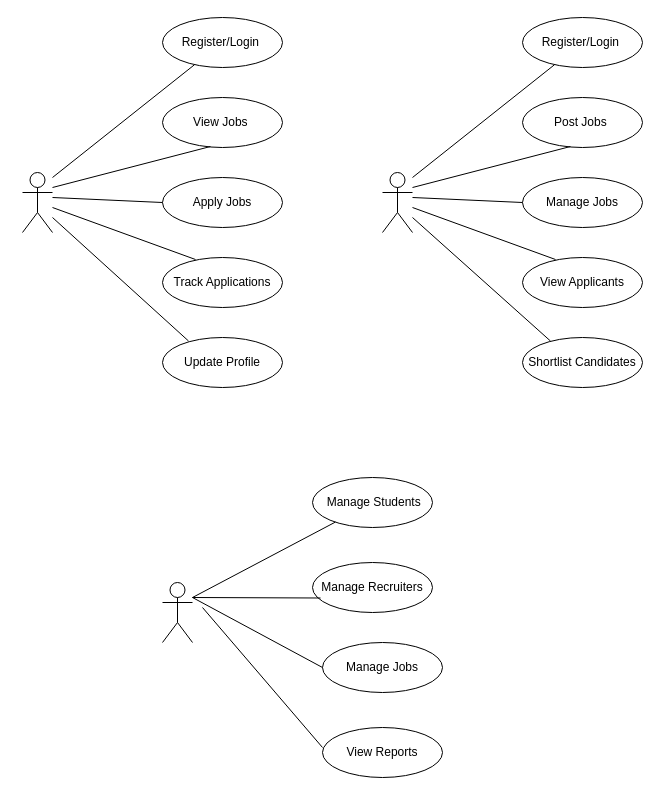
Image size: 660x795. Some labels were removed from this diagram. The centre of each missing label's shape, as x and y in pixels:
"Admin" belongs at [177,612].
"Recruiter" belongs at [397,202].
"Student" belongs at [37,202].
